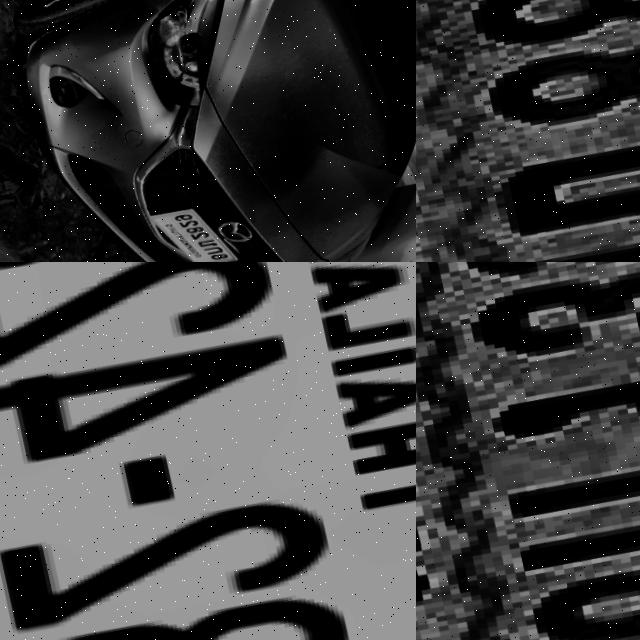license-plate: (0, 262, 416, 640), (416, 262, 640, 640), (416, 0, 640, 262), (142, 196, 240, 262)
